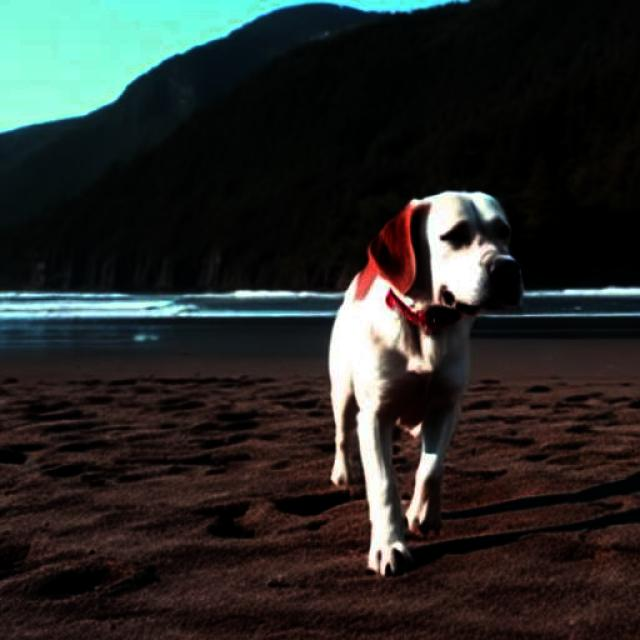Dog: (328, 191, 524, 576)
